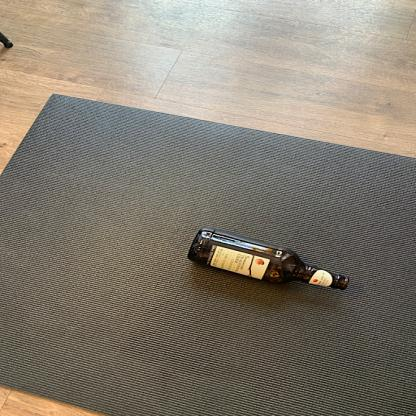trash: (186, 225, 351, 292)
